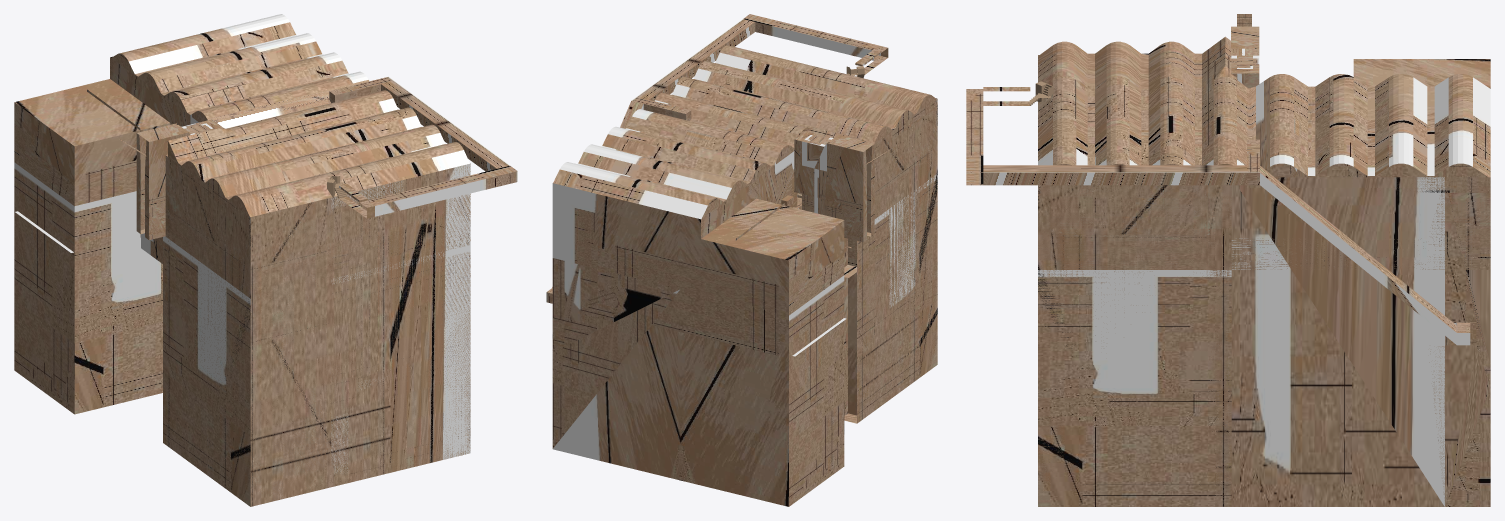
The model's file is prison.glb.
The picture shows the model from 3 angles, left to right: view 1: azimuth 30°, elevation 25°; view 2: azimuth 150°, elevation 25°; view 3: azimuth 270°, elevation 25°; orthographic projection. The views are drawn at different scales.
Parts seen in each view (by area): view 1: prison6; view 2: prison6; view 3: prison6.
Boxes of the visible parts, <box> form: prison6: <box>14,14,517,506</box>; prison6: <box>546,14,937,506</box>; prison6: <box>966,14,1490,506</box>.
Size of the model in its own units: 91.35 by 97.31 by 132.
Materials: 9 (9 with a texture image).
